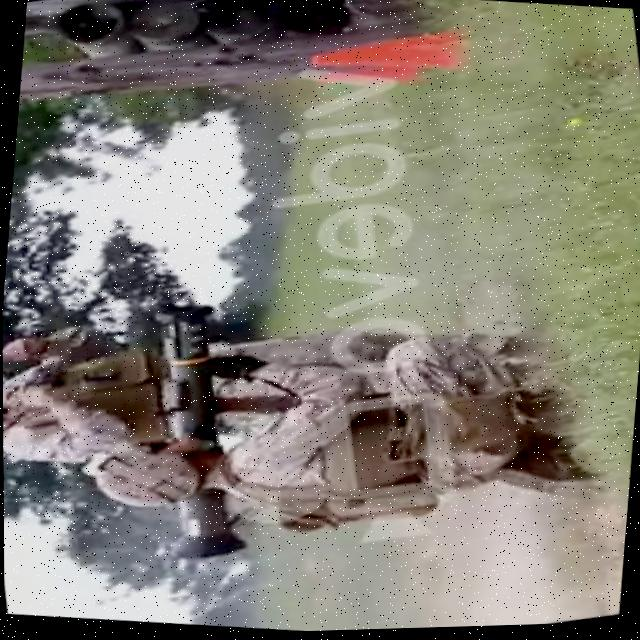rocket: (131, 293, 269, 569)
